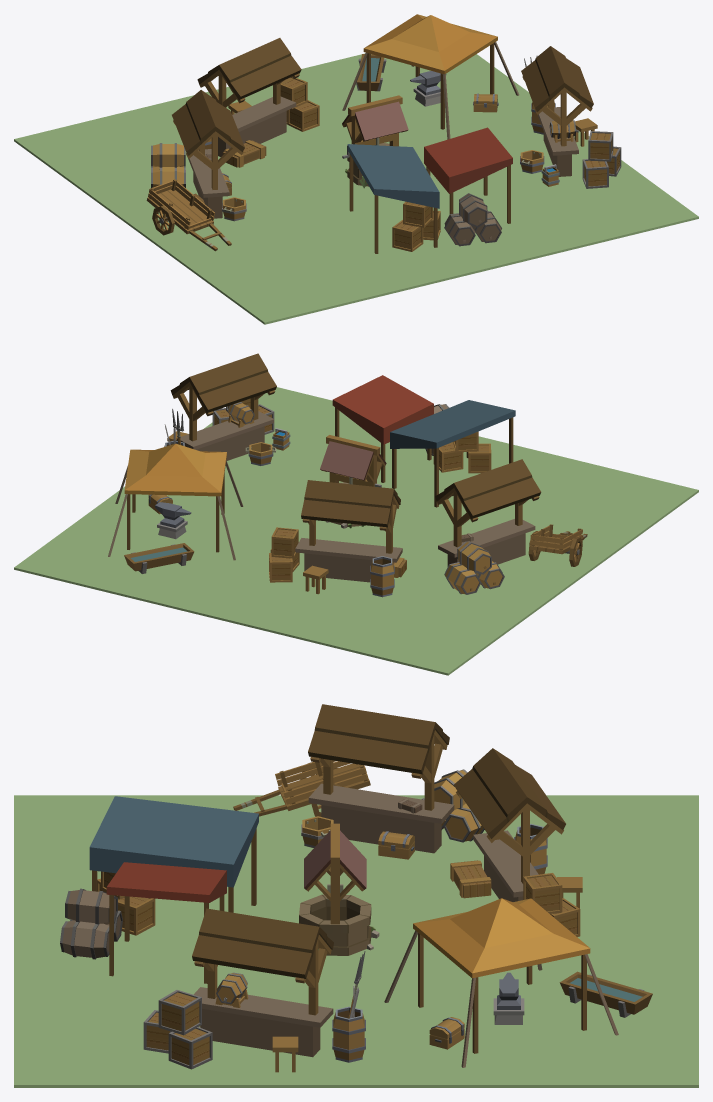
Rendered from market.glb.
3 views of the same model, one above another, from view 1: azimuth 30°, elevation 25°; view 2: azimuth 150°, elevation 25°; view 3: azimuth 270°, elevation 25° (orthographic). The views are drawn at different scales.
Visible parts, largest first — view 1: Ground, Market; view 2: Ground, Market; view 3: Ground, Market.
Part boxes in pixels (left/top/right/bottom): Ground: left=14, top=53, right=698, bottom=324; Market: left=146, top=14, right=621, bottom=253; Ground: left=14, top=387, right=698, bottom=675; Market: left=108, top=353, right=587, bottom=597; Ground: left=14, top=795, right=698, bottom=1087; Market: left=60, top=704, right=652, bottom=1072.
Size of the model in its own units: 32 by 7.05 by 32.
Materials: 2 (1 with a texture image).
